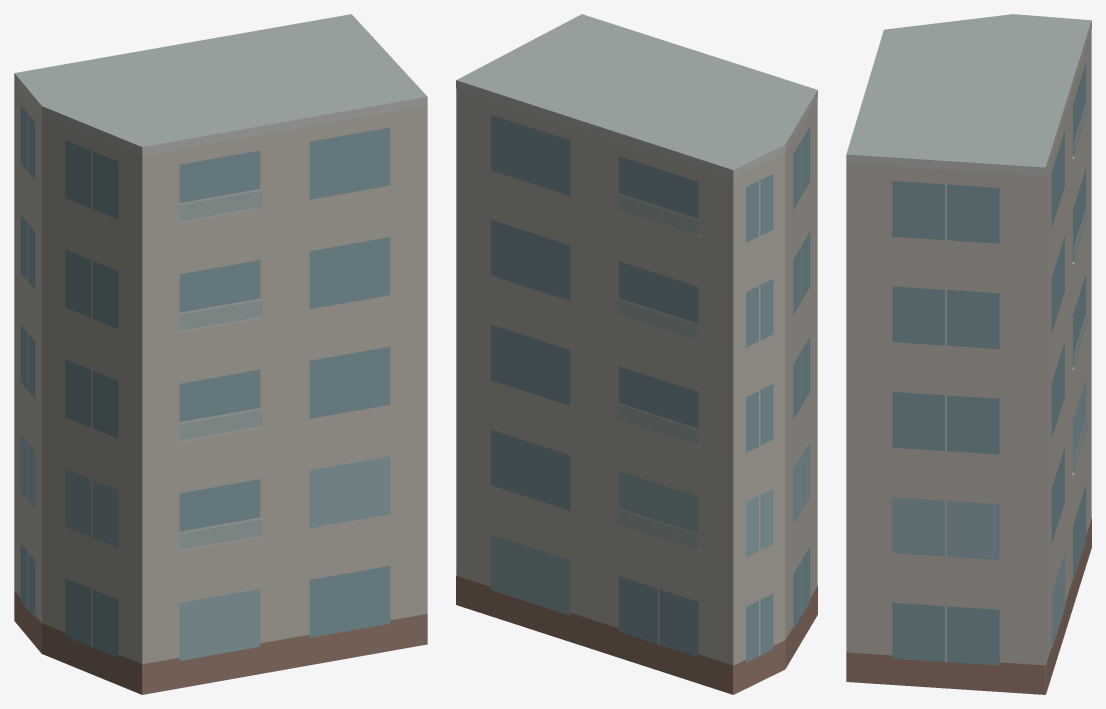
The model's file is survey-upis-32997301.glb.
The picture shows the model from 3 angles, left to right: view 1: azimuth 30°, elevation 25°; view 2: azimuth 150°, elevation 25°; view 3: azimuth 270°, elevation 25°; orthographic projection. The views are drawn at different scales.
Parts seen in each view (by area): view 1: survey-upis-32997301.tmp; view 2: survey-upis-32997301.tmp; view 3: survey-upis-32997301.tmp.
Part boxes in pixels (x1=…): survey-upis-32997301.tmp: x1=14, y1=14, x2=427, y2=694; survey-upis-32997301.tmp: x1=456, y1=14, x2=817, y2=694; survey-upis-32997301.tmp: x1=846, y1=14, x2=1091, y2=694.
Bounding box in the file's own units: 9.56 × 15.3 × 6.46.
